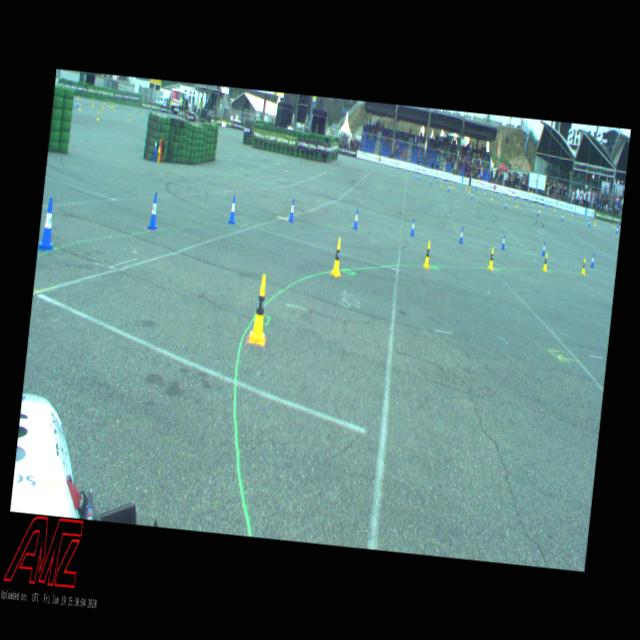blue_cone: (37, 197, 59, 250), (147, 192, 160, 230), (228, 195, 237, 224), (288, 198, 296, 222), (353, 208, 359, 228), (458, 228, 464, 244), (410, 218, 415, 235), (540, 242, 546, 256), (500, 234, 505, 249), (590, 254, 594, 266)
yellow_cone: (248, 273, 271, 345), (330, 237, 344, 277), (422, 240, 432, 268), (488, 247, 494, 270), (542, 252, 548, 271), (580, 258, 586, 274)
